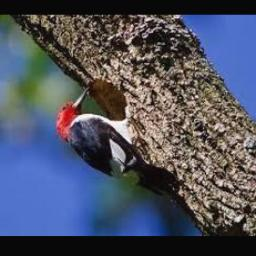Woodpecker: (57, 87, 180, 204)
